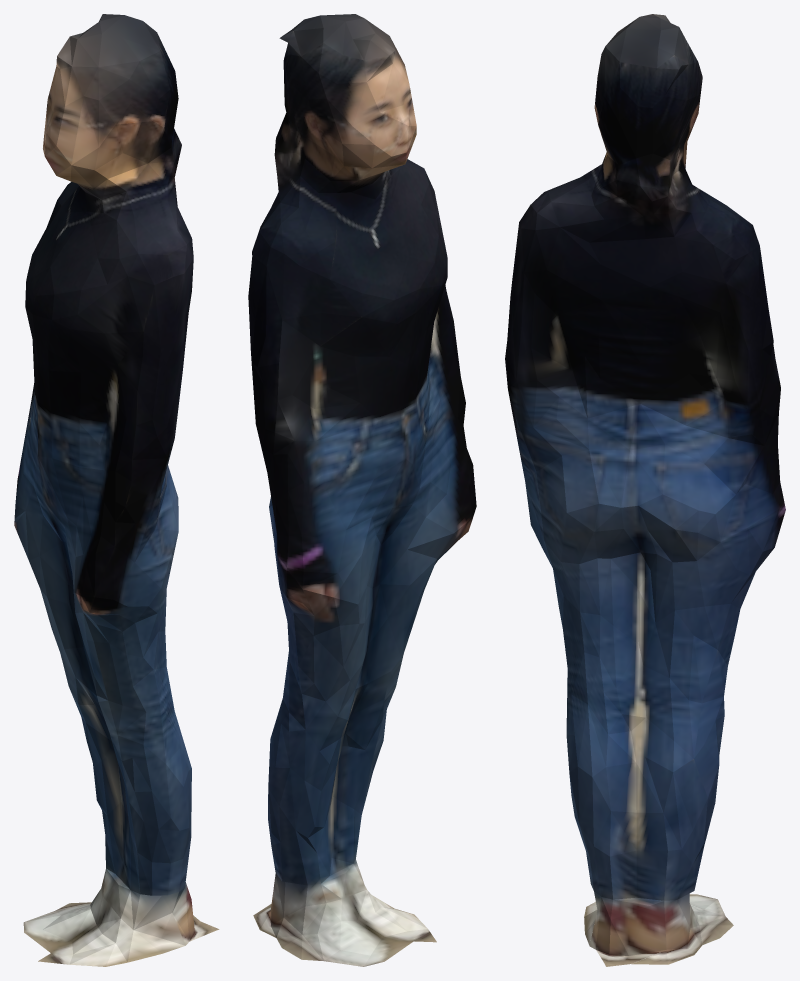
Rendered from maral_demo.glb.
3 renders of one model, left to right at view 1: azimuth 30°, elevation 25°; view 2: azimuth 150°, elevation 25°; view 3: azimuth 270°, elevation 25°, orthographic.
Size of the model in its own units: 0.3063 by 1.57 by 0.443.
1 material, 1 textured.
